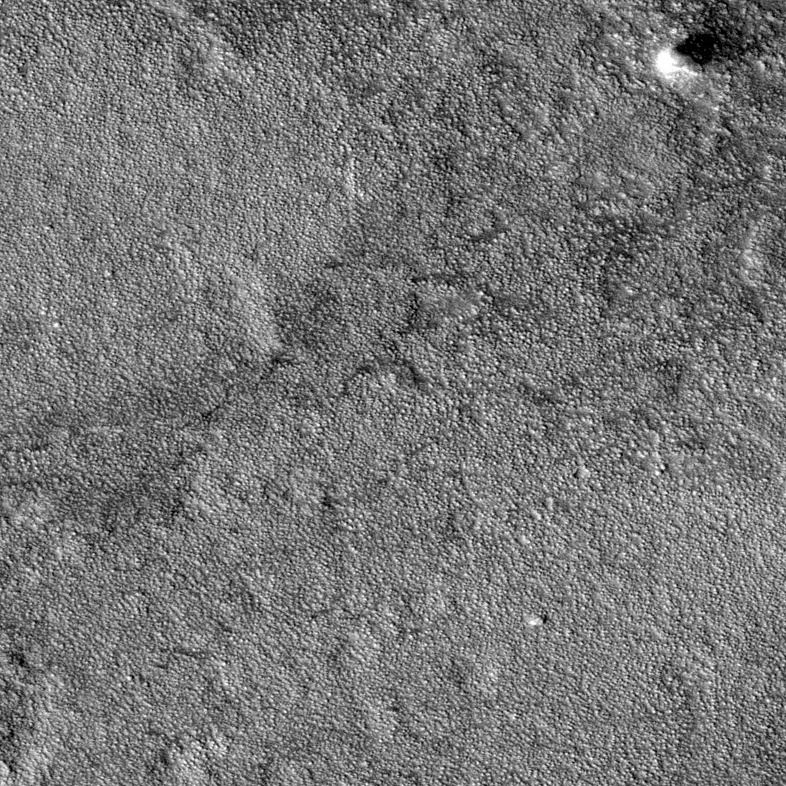dust_devil: (654, 29, 745, 86)
